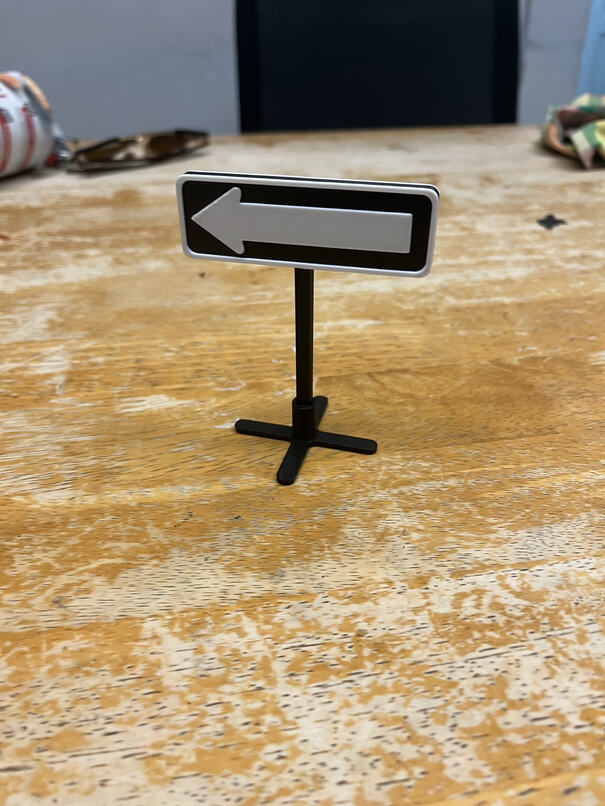sign_oneway_left: (171, 170, 434, 287)
